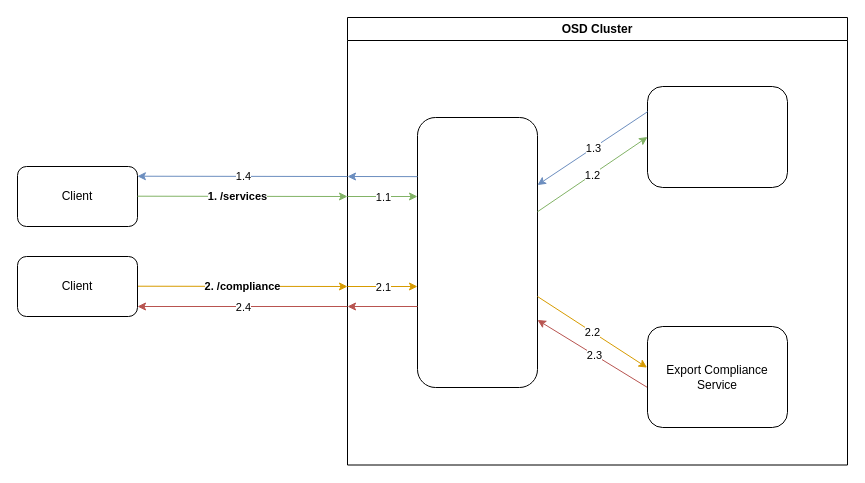
Some shapes in this 865 by 483 pixel diagram are drawn without their labels. Here are the shapes that lost their labels. From the top down, the centre of each, then its label:
point 717,137: IT Subscriptions Service
point 477,252: Entitlements Service
